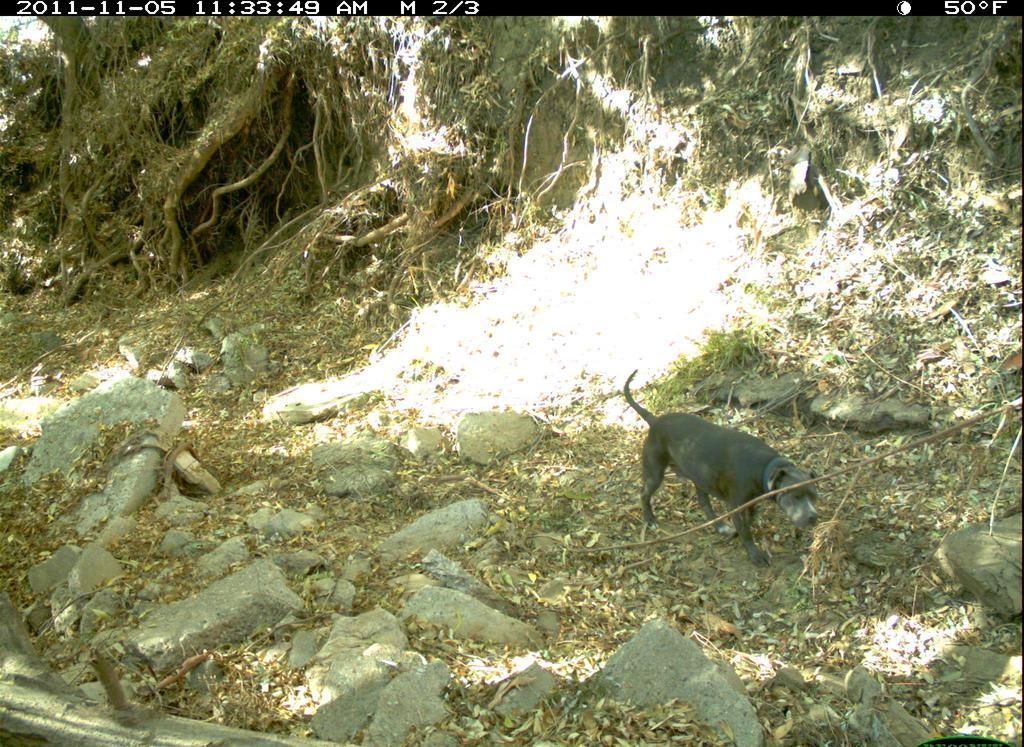dog: (614, 367, 831, 580)
